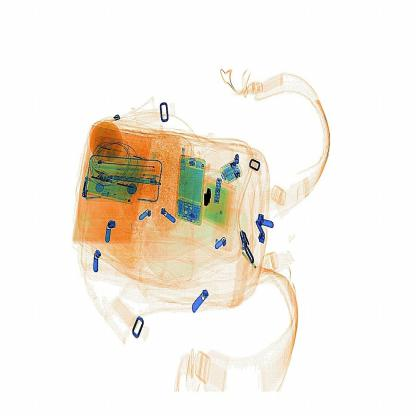knife: (197, 180, 221, 212)
